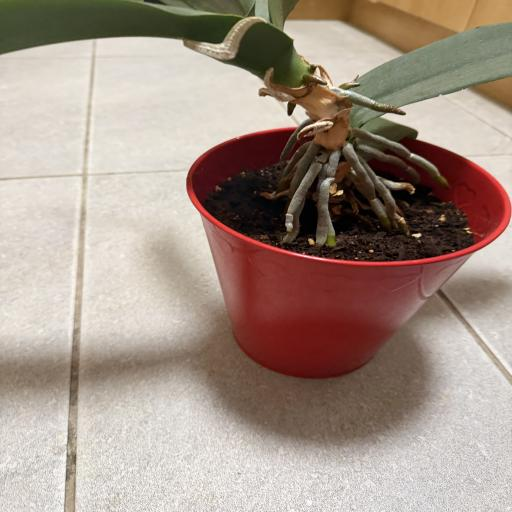Plant Pot: (182, 125, 512, 376)
